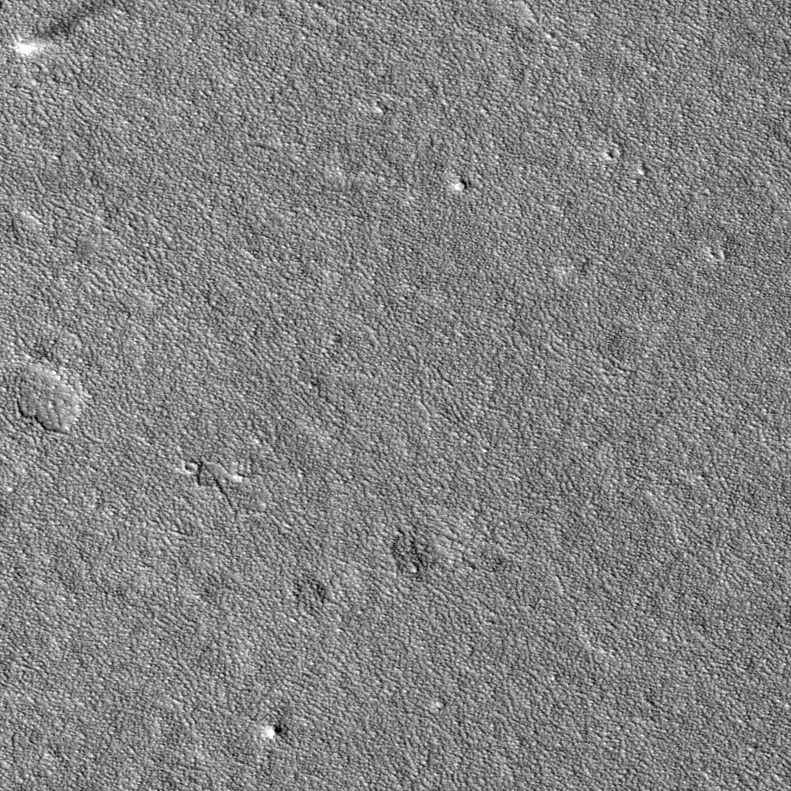dust_devil: (14, 1, 126, 58)
